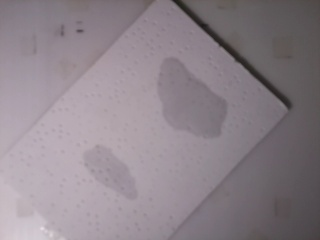Water_detected: (158, 74, 217, 136), (97, 151, 137, 192)
